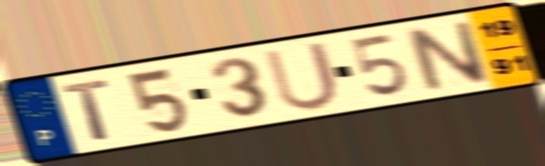3: (209, 56, 270, 121)
5: (122, 64, 191, 135), (347, 32, 411, 99)
N: (400, 18, 495, 94)
T: (58, 76, 114, 143)
U: (261, 38, 343, 113)
